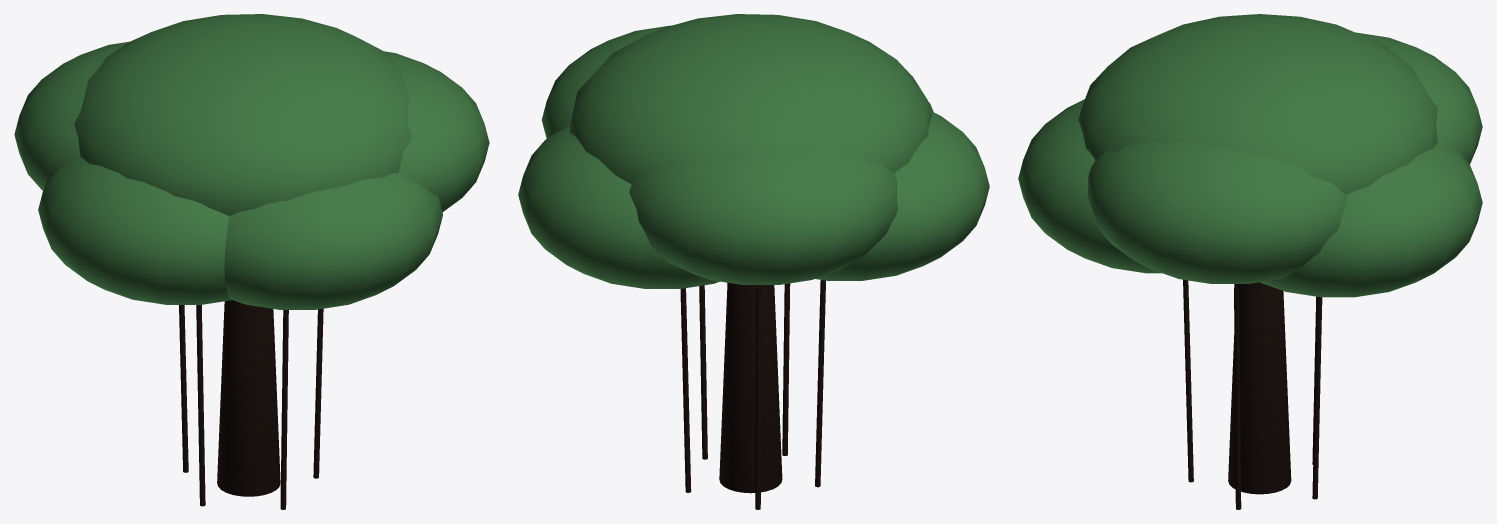
File: tree-banyan-dccbc2455d29.glb
3 views of the same model, side by side, from view 1: azimuth 30°, elevation 25°; view 2: azimuth 150°, elevation 25°; view 3: azimuth 270°, elevation 25° (orthographic).
Parts seen in each view (by area): view 1: Mesh_Canopy_Foliage, Mesh_Tree_Bark; view 2: Mesh_Canopy_Foliage, Mesh_Tree_Bark; view 3: Mesh_Canopy_Foliage, Mesh_Tree_Bark.
Boxes of the visible parts, x1,y1,x2,y2 form: Mesh_Canopy_Foliage: (14,14,489,309); Mesh_Tree_Bark: (179,300,323,509); Mesh_Canopy_Foliage: (518,14,989,288); Mesh_Tree_Bark: (680,280,825,509); Mesh_Canopy_Foliage: (1018,14,1482,297); Mesh_Tree_Bark: (1183,279,1322,509).
Bounding box in the file's own units: 5.34 × 5.5 × 5.29.
2 materials, 1 textured.
